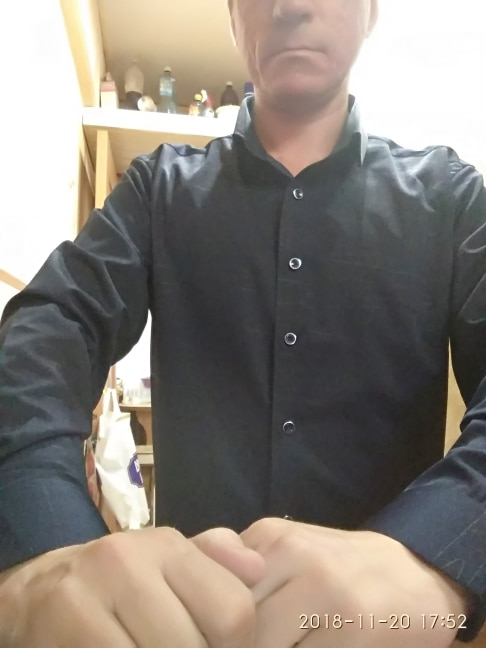shirts: (12, 95, 486, 622)
